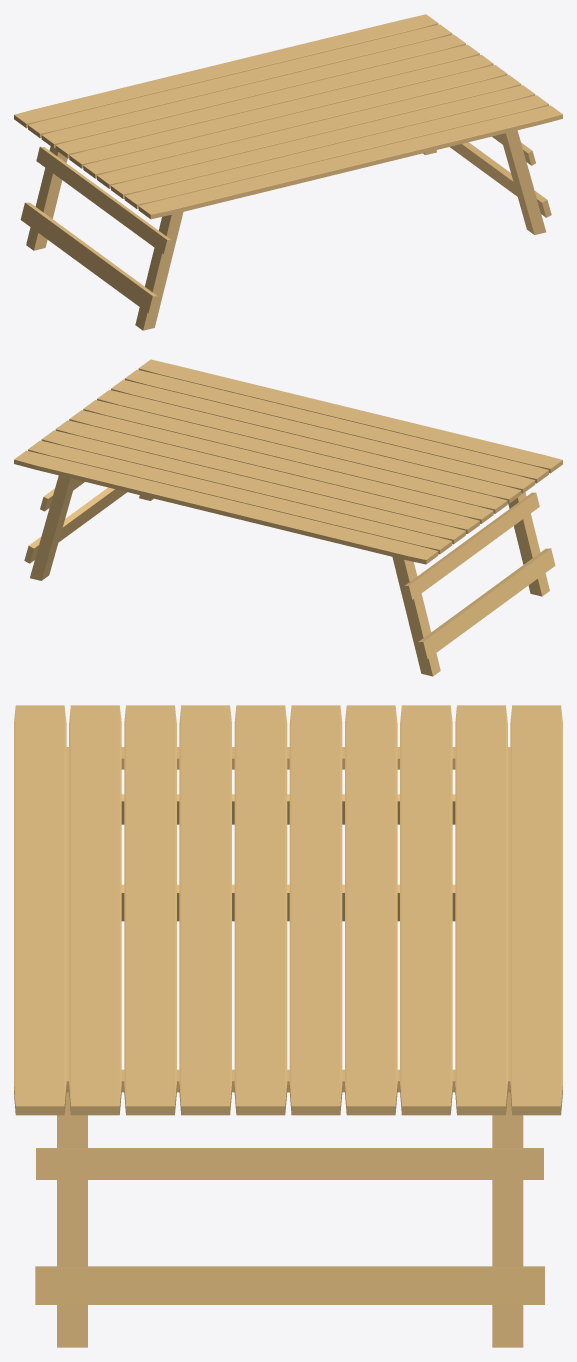
The model's file is MesaMachimbre01.fbx.
3 renders of one model, top to bottom at view 1: azimuth 30°, elevation 25°; view 2: azimuth 150°, elevation 25°; view 3: azimuth 270°, elevation 25°, orthographic. The views are drawn at different scales.
Parts seen in each view (by area): view 1: MesaMachimbre; view 2: MesaMachimbre; view 3: MesaMachimbre.
Boxes of the visible parts, x1,y1,x2,y2 form: MesaMachimbre: (14, 14, 562, 330); MesaMachimbre: (14, 359, 562, 676); MesaMachimbre: (14, 705, 562, 1347).
Bounding box in the file's own units: 265 × 76.32 × 154.
